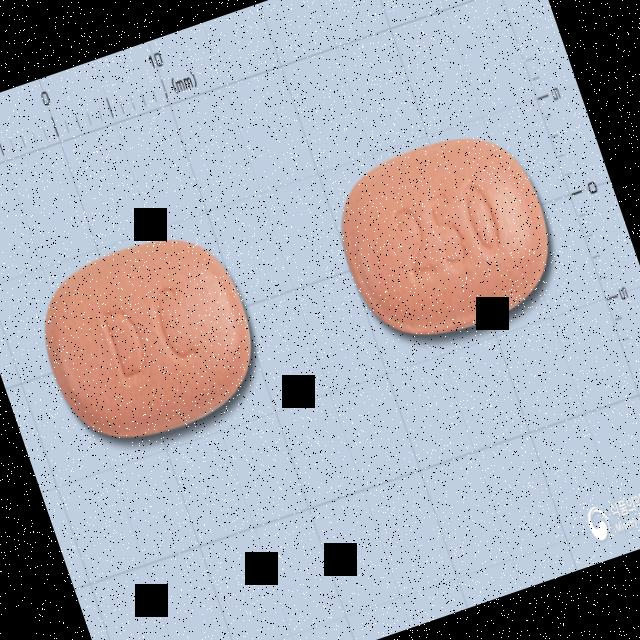Dongkoo Levofloxacin Hydrate Tab-250mg: (21, 216, 276, 463), (318, 113, 572, 359)
